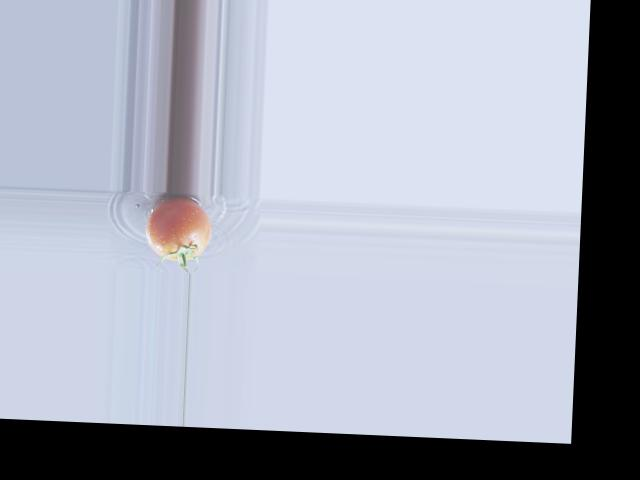tomato: (144, 195, 212, 261)
